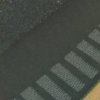crosswalk: (20, 23, 99, 100)
